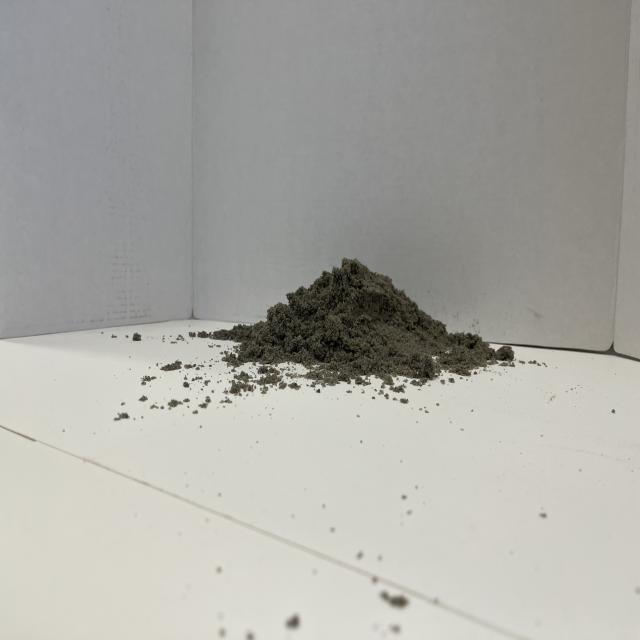sand: (229, 255, 491, 396)
